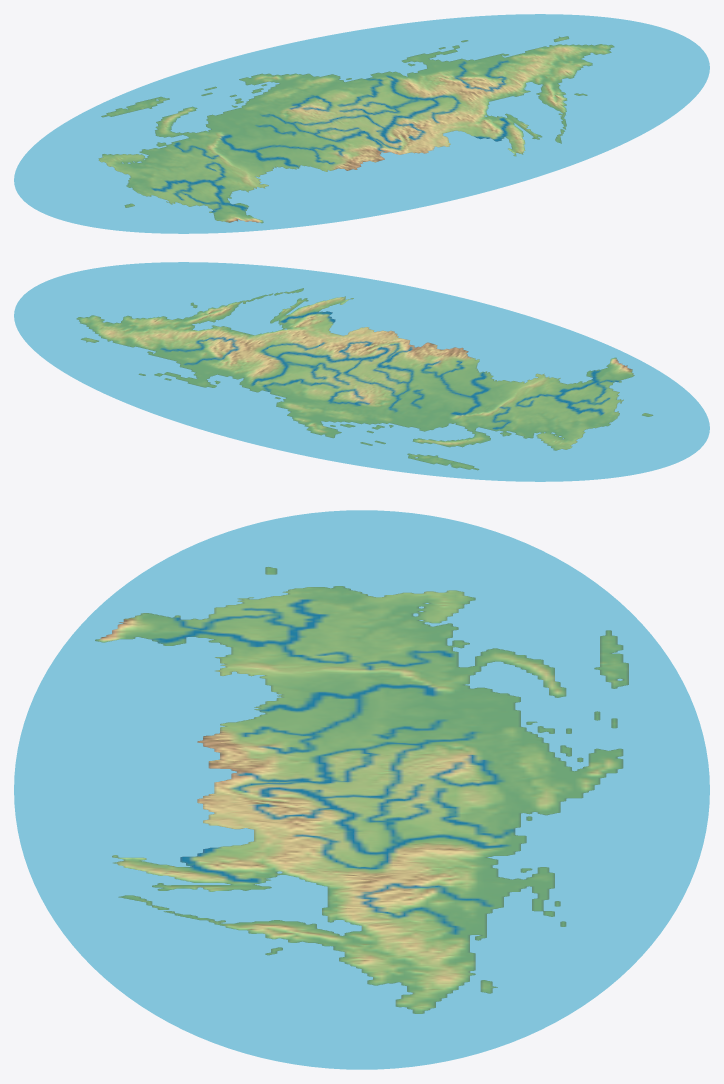
The model's file is RUS-terrain.glb.
The picture shows the model from 3 angles, top to bottom: view 1: azimuth 30°, elevation 25°; view 2: azimuth 150°, elevation 25°; view 3: azimuth 270°, elevation 25°; orthographic projection. The views are drawn at different scales.
Parts seen in each view (by area): view 1: Relevo com hidrografia; view 2: Relevo com hidrografia; view 3: Relevo com hidrografia.
Part boxes in pixels (left/top/right/bottom): Relevo com hidrografia: left=14, top=14, right=709, bottom=233; Relevo com hidrografia: left=14, top=262, right=709, bottom=481; Relevo com hidrografia: left=14, top=510, right=709, bottom=1069.
Size of the model in its own units: 2.01 by 0.00755 by 1.06.
Materials: 2 (1 with a texture image).
